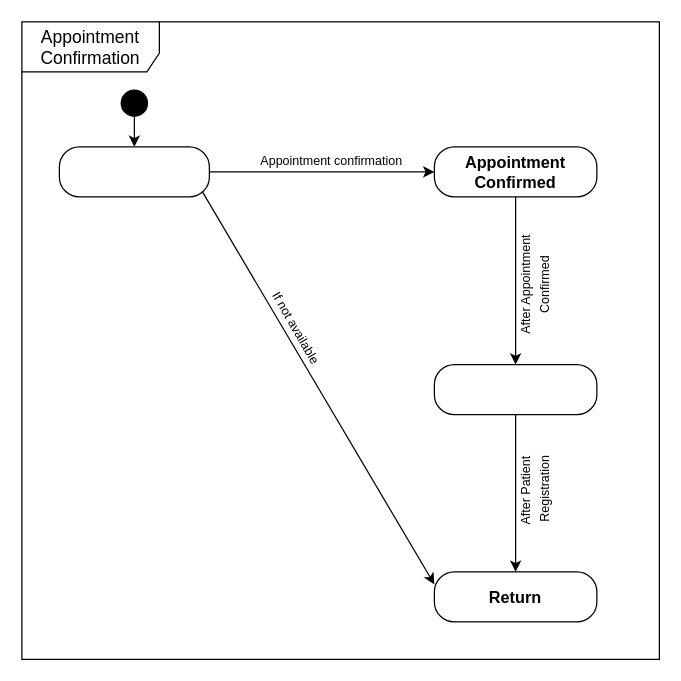
This 681x681 diagram has some shape labels left out. Each missing label, with the centre of its shape:
"Patient Registered" goes at point 515,389.
"Search Appointment ID" goes at point 133,171.
